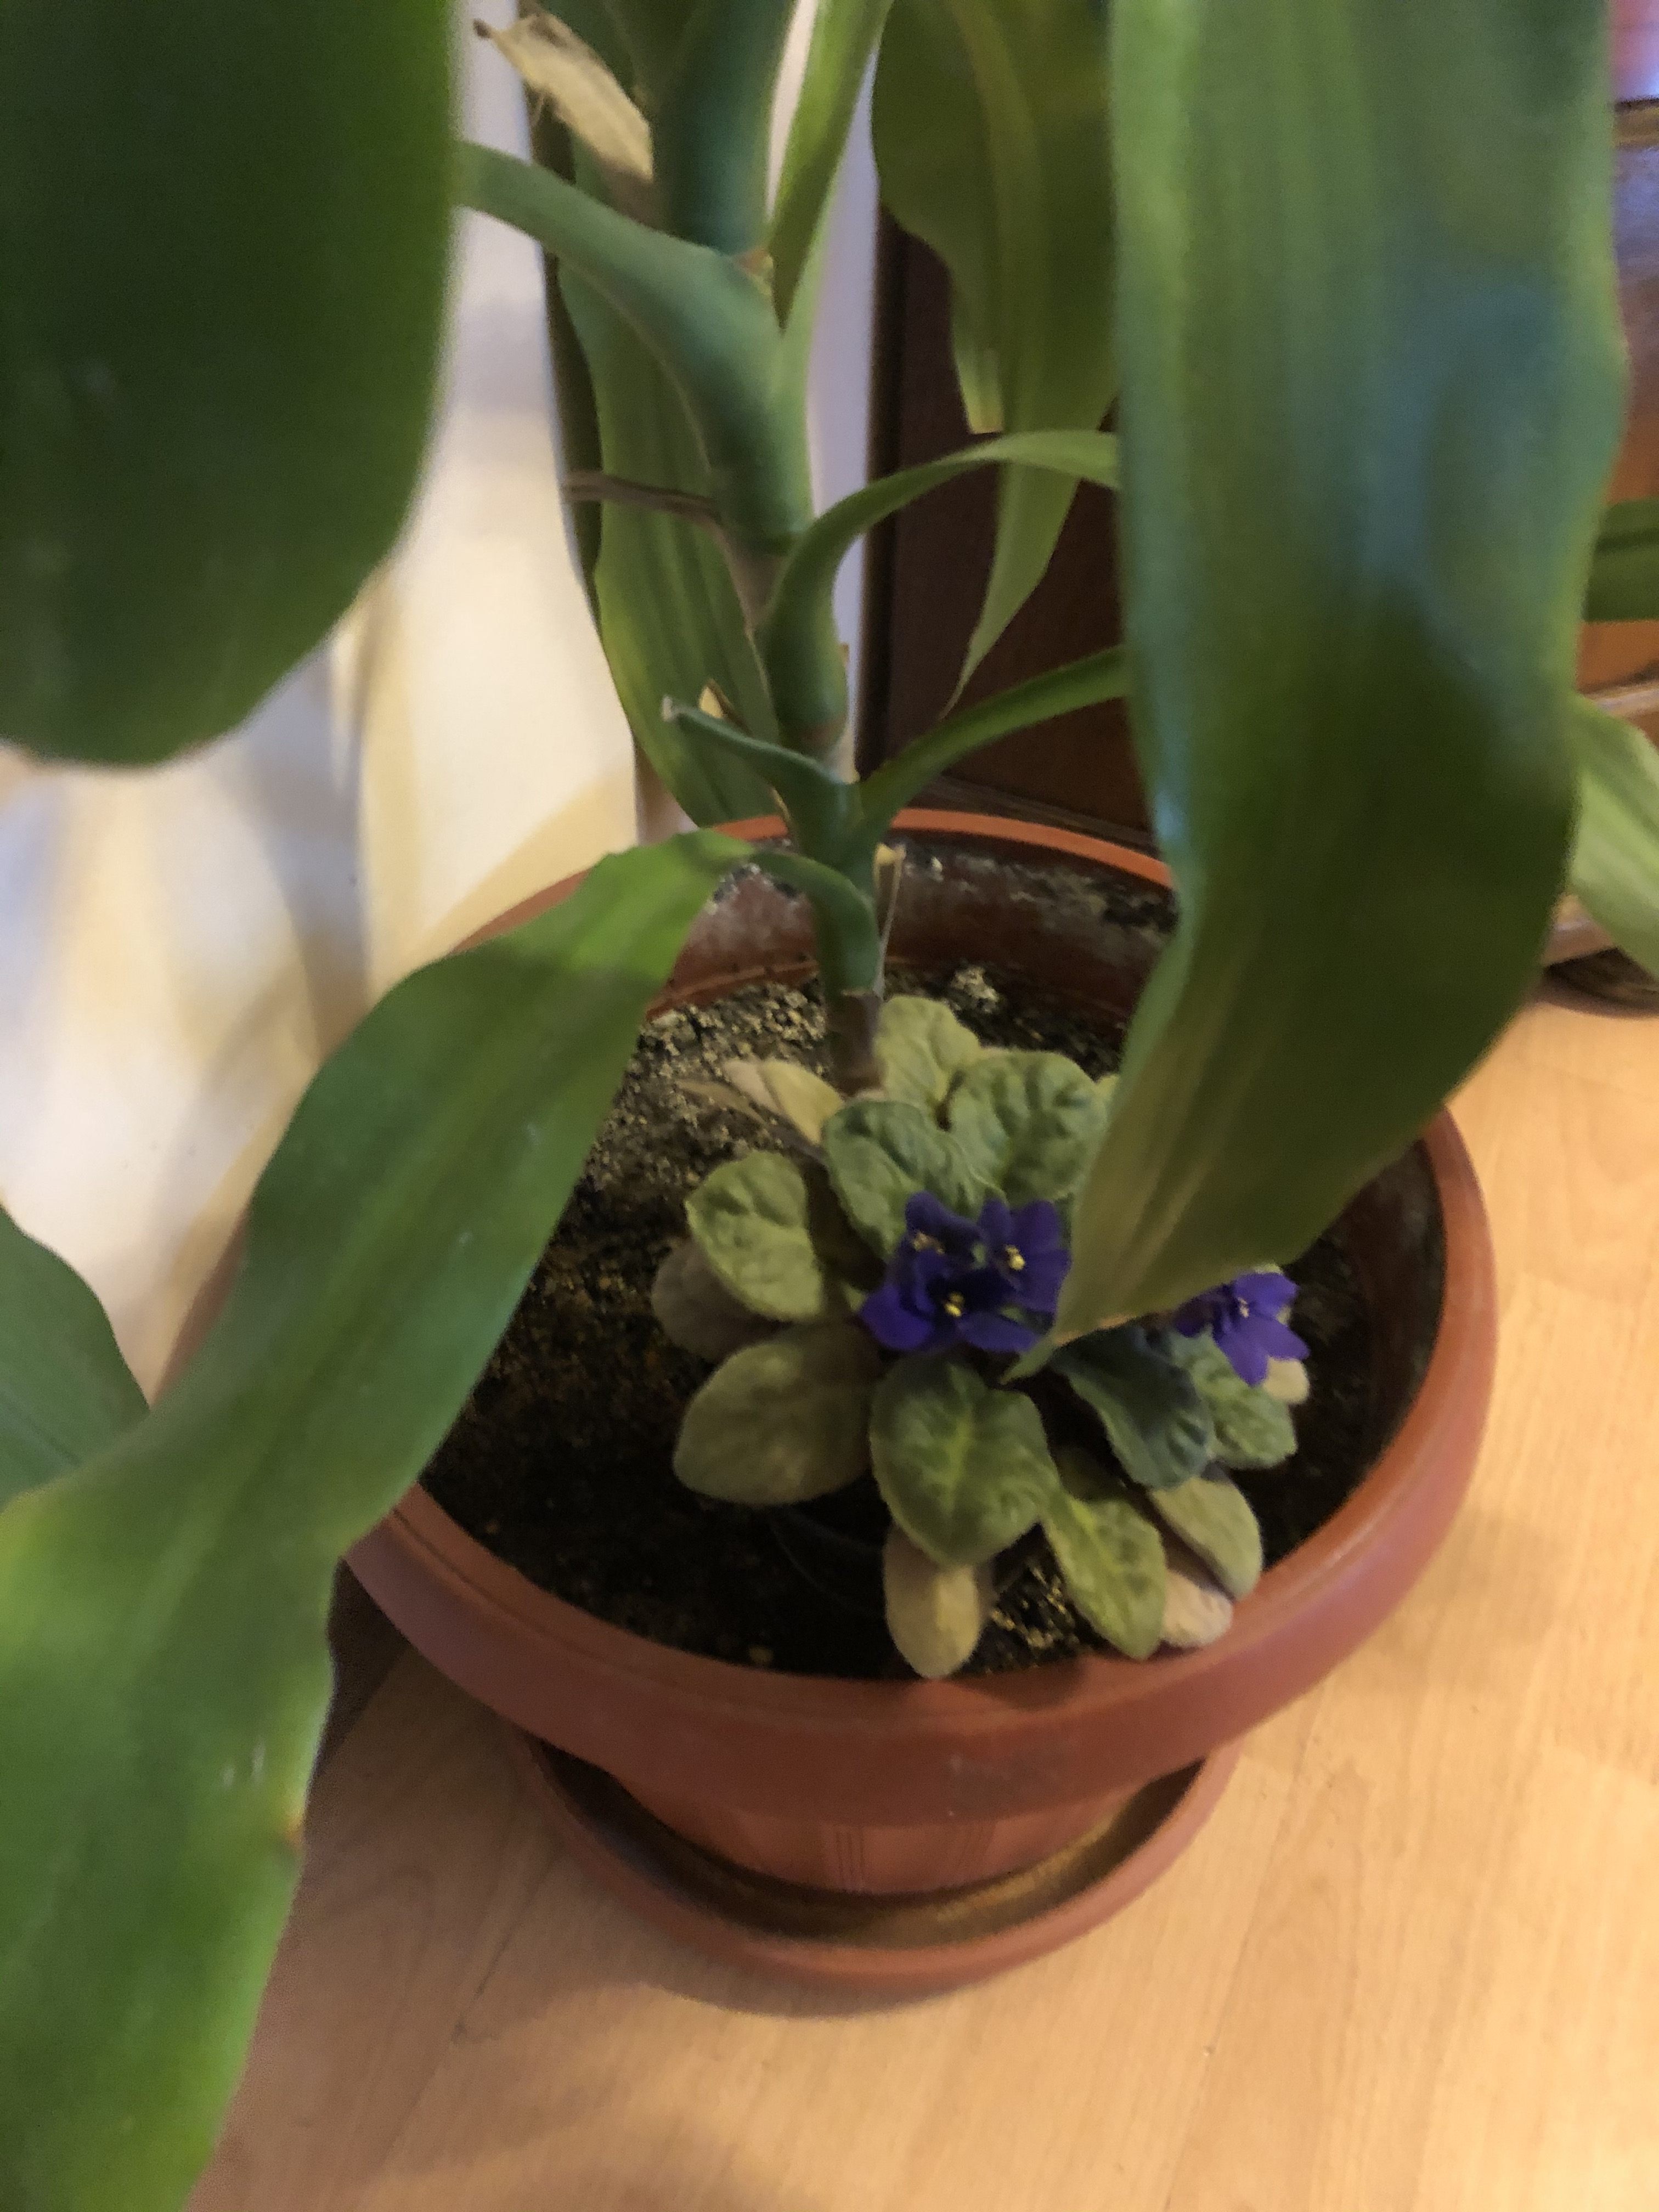ignore: (704, 1003, 1305, 1674)
